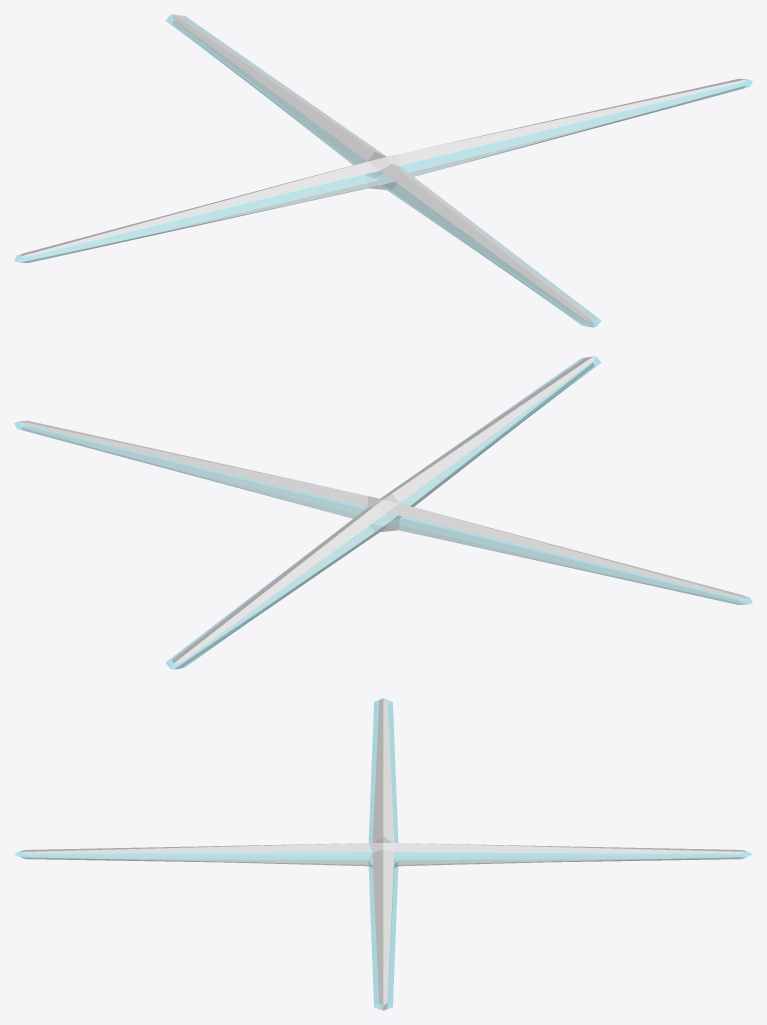
Rendered from spinner.fbx.
3 renders of one model, top to bottom at view 1: azimuth 30°, elevation 25°; view 2: azimuth 150°, elevation 25°; view 3: azimuth 270°, elevation 25°, orthographic. The views are drawn at different scales.
Visible parts, largest first — view 1: spinner; view 2: spinner; view 3: spinner.
Boxes of the visible parts, x1,y1,x2,y2 form: spinner: (14,14,752,327); spinner: (14,356,752,669); spinner: (14,698,752,1010).
Bounding box in the file's own units: 5588 × 194 × 5584.
